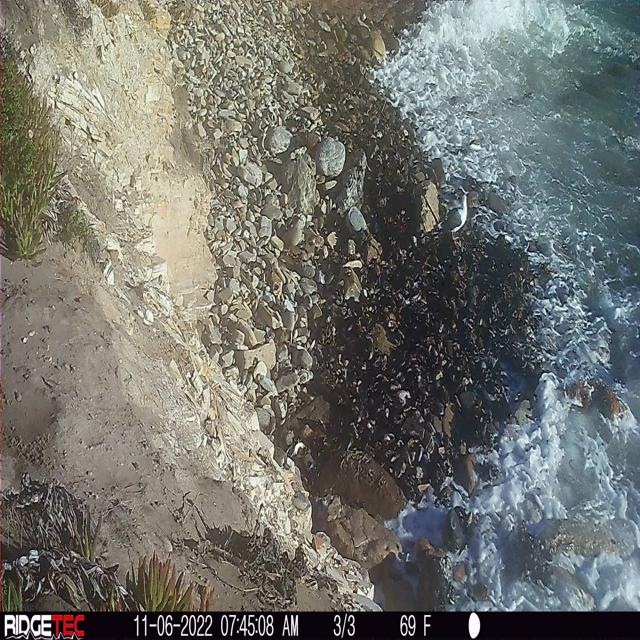bird: (435, 174, 479, 274)
